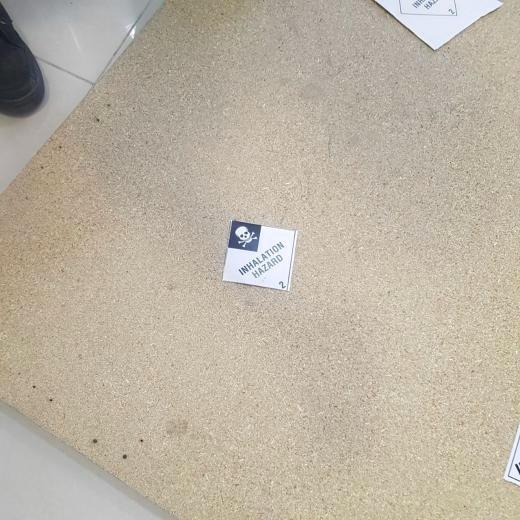poison: (219, 222, 298, 291)
